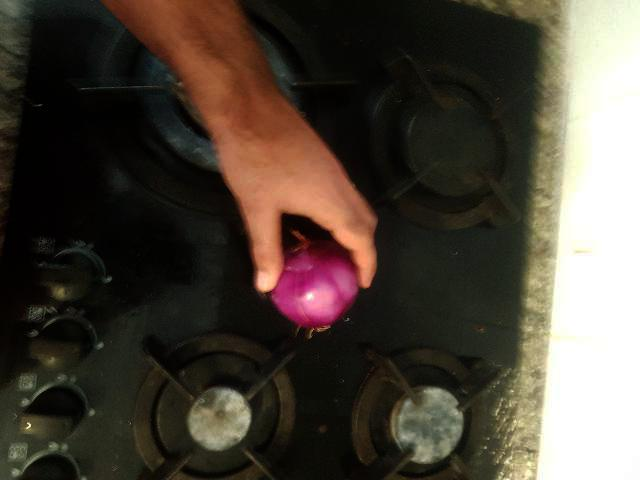onion: (388, 276, 481, 381)
